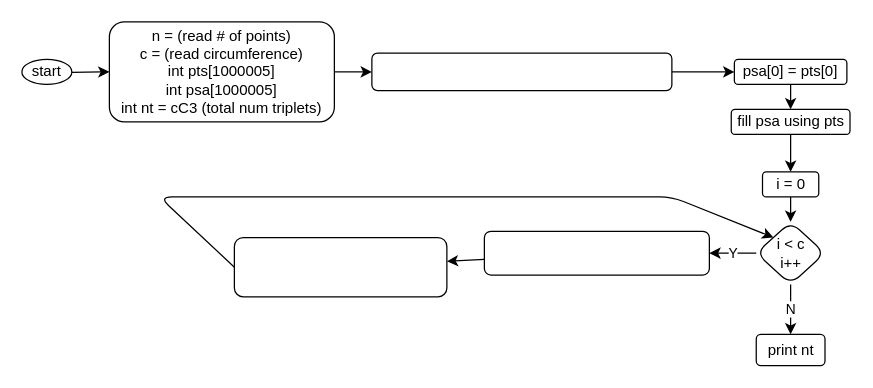
The diagram is 873 pixels wide and 388 high, and some of its shapes have lost their labels. Each missing label, with the box of its shape:
int opp = (i + c/2) int p = (num points from i to opp): (483, 230, 709, 275)
read point locations pts = (store number of pts at each location): (371, 52, 672, 91)
subtract non-fulfilling triangles: (233, 236, 447, 297)
